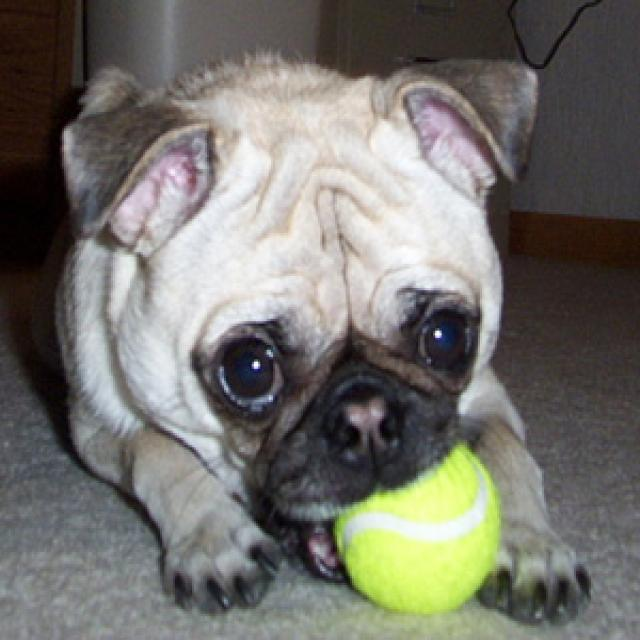dog-pug: (41, 45, 599, 630)
